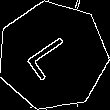L_NE: (23, 29, 83, 83)
